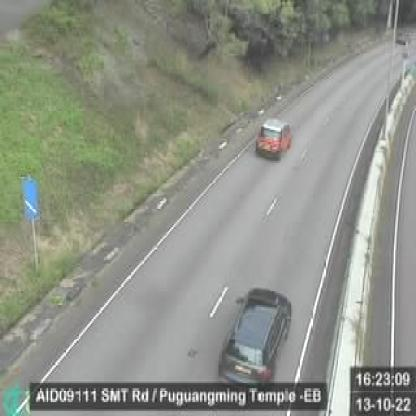Car: (218, 291, 290, 384), (255, 118, 294, 160)
